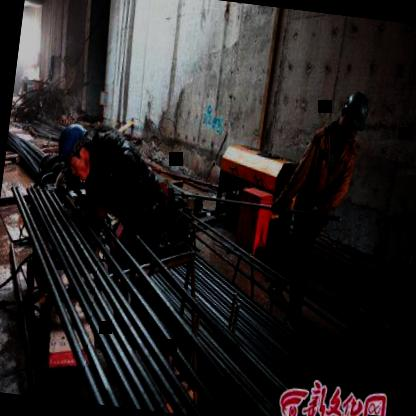helmet: (50, 119, 100, 182), (333, 84, 374, 141)
